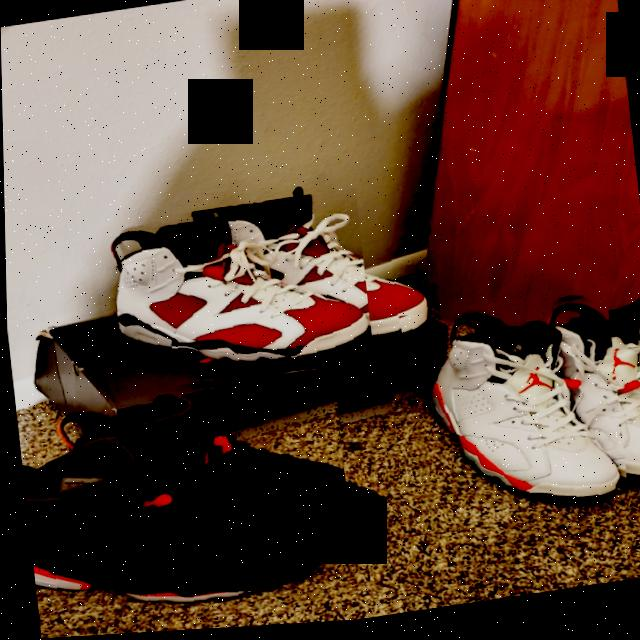shoe: (52, 355, 404, 589), (17, 402, 356, 640), (87, 191, 373, 408), (397, 292, 627, 541), (177, 167, 443, 379)
